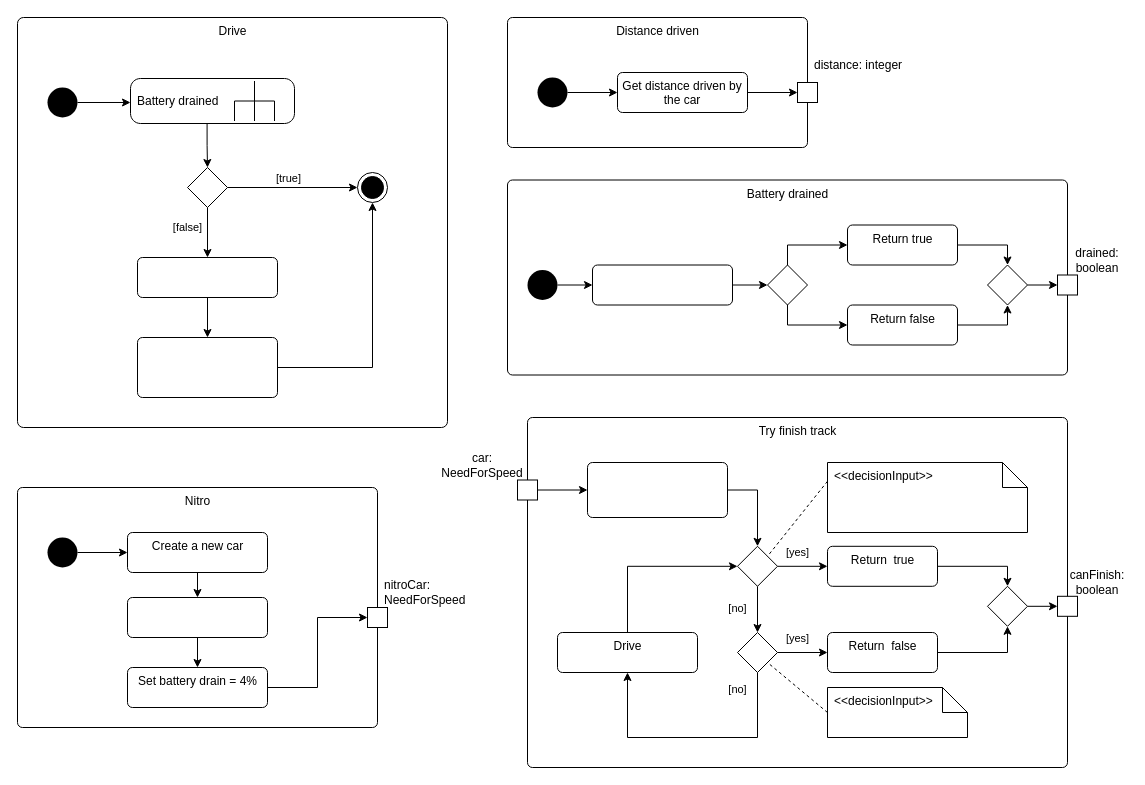
Some shapes in this 1145 by 785 pixel diagram are drawn without their labels. Here are the shapes that lost their labels. From the top down, the box of each, then its label:
(136, 256, 278, 298): Increase distance driven by the car's speed
(592, 264, 732, 305): Get remaining battery percentage
(136, 336, 278, 398): Decrease remaining battery percentage by the battery drain
(586, 462, 728, 518): Set initial distance driven to the current distance driven of the car
(826, 462, 1028, 532): Distance driven - Initial distance driven >= track's length
(126, 596, 268, 638): Set speed = 50 meters
(826, 686, 968, 738): Battery drained?
